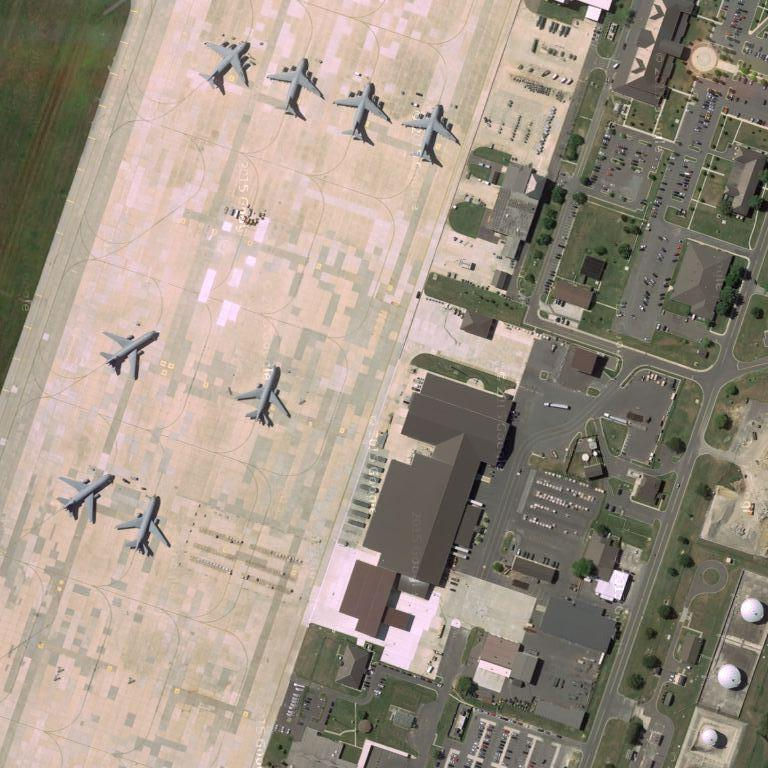C-17: (267, 56, 328, 124), (333, 79, 392, 148), (403, 98, 460, 167), (198, 34, 256, 96)
KC-10: (235, 361, 299, 431), (115, 491, 174, 560), (99, 324, 166, 384), (54, 466, 119, 524)
